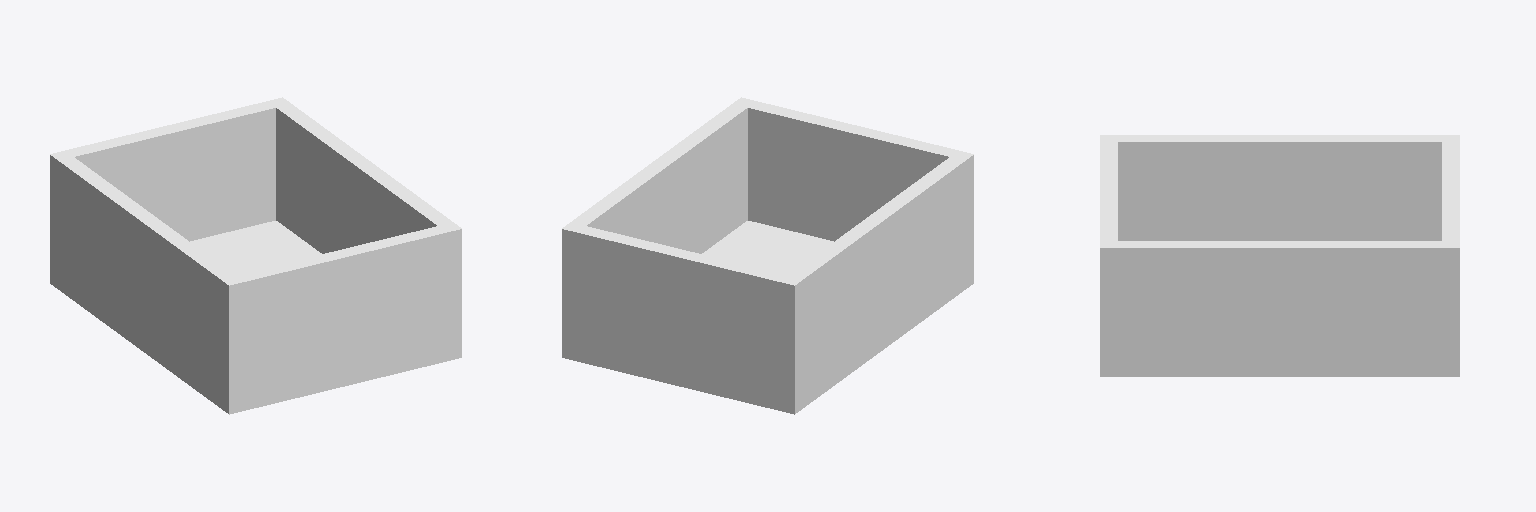
Rendered from Environment.obj.
3 views of the same model, side by side, from view 1: azimuth 30°, elevation 25°; view 2: azimuth 150°, elevation 25°; view 3: azimuth 270°, elevation 25° (orthographic).
Visible parts, largest first — view 1: Environment; view 2: Environment; view 3: Environment.
Boxes of the visible parts, box(x1,y1,x2,y2) form: Environment: box(50, 97, 461, 414); Environment: box(562, 97, 973, 414); Environment: box(1100, 135, 1459, 376).
Size of the model in its own units: 15 by 7.92 by 20.